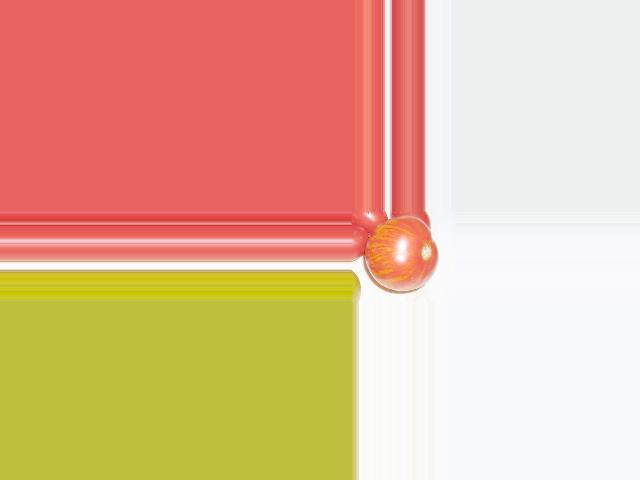tomato: (364, 215, 439, 291)
